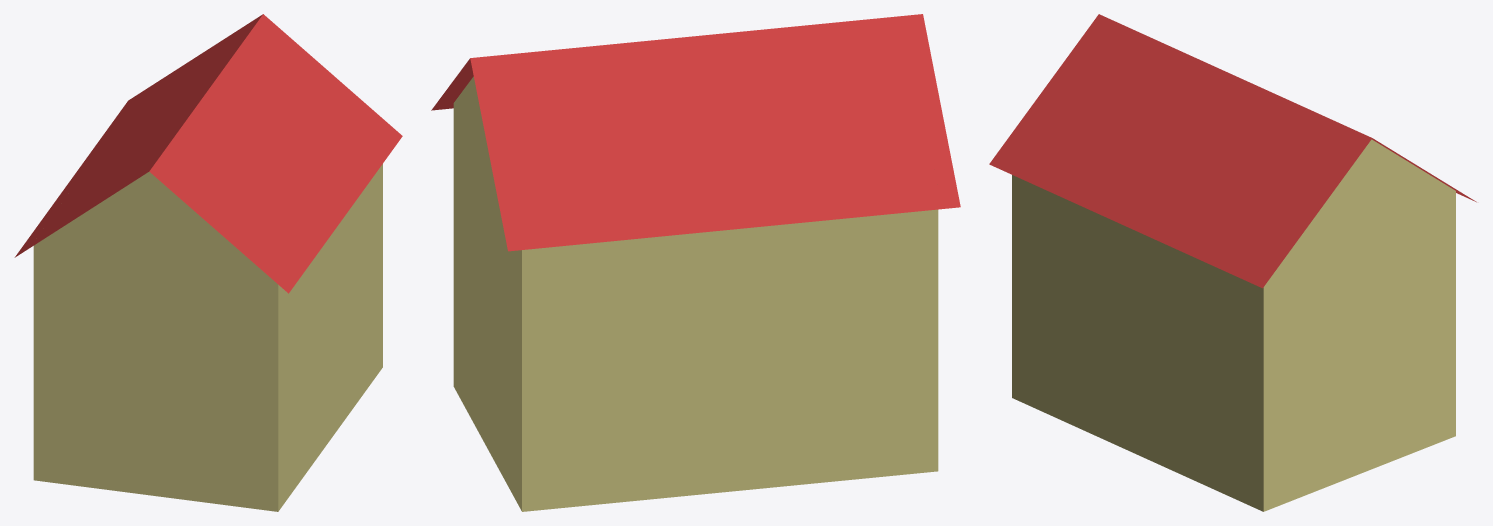
3 views of the same model, side by side, from view 1: azimuth 30°, elevation 25°; view 2: azimuth 150°, elevation 25°; view 3: azimuth 270°, elevation 25° (orthographic). The views are drawn at different scales.
Size of the model in its own units: 15.29 by 15.13 by 11.6.
